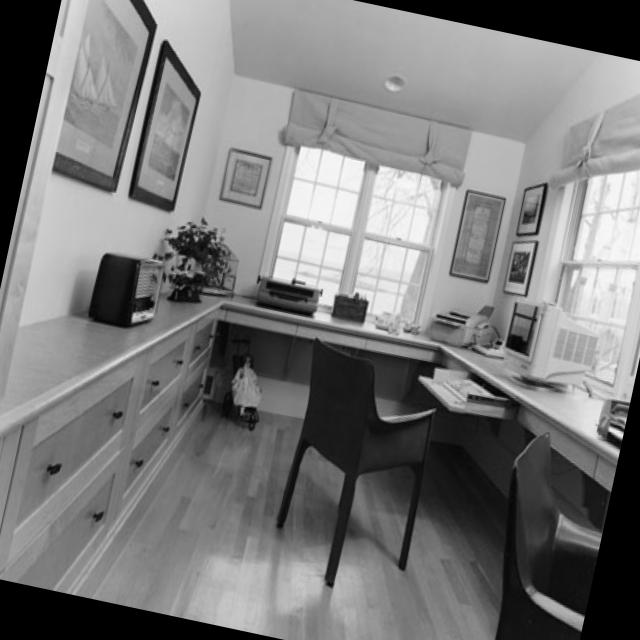2001: (253, 87, 475, 333), (526, 93, 640, 401)
adding machine: (473, 336, 504, 359)
birdcage: (205, 234, 237, 296)
box contants: (331, 295, 367, 319)
cabinets: (0, 280, 226, 595)
ceiling beam: (229, 0, 601, 142)
chair -occluded-: (275, 336, 436, 587), (496, 432, 601, 640)
counter bottom: (0, 280, 223, 437)
curtain crop: (282, 87, 474, 185), (556, 93, 640, 187)
desk calendar: (224, 290, 627, 491)
floor -X: (92, 394, 506, 640)
keyboard crop: (443, 377, 493, 401)
light fixture: (384, 75, 407, 91)
monitor crop: (503, 299, 598, 390)
painting crop: (53, 0, 158, 191), (129, 39, 202, 210), (449, 190, 506, 282), (219, 150, 272, 209), (502, 240, 537, 297), (516, 183, 549, 234)
plant -x: (165, 224, 233, 301)
printer: (594, 377, 633, 446), (430, 309, 488, 345)
radio alarm clock: (87, 253, 166, 328)
sculpyure: (221, 357, 264, 433)
typewriter: (255, 276, 324, 317)
wall clock: (193, 76, 522, 340), (18, 0, 234, 326), (485, 53, 640, 404)
